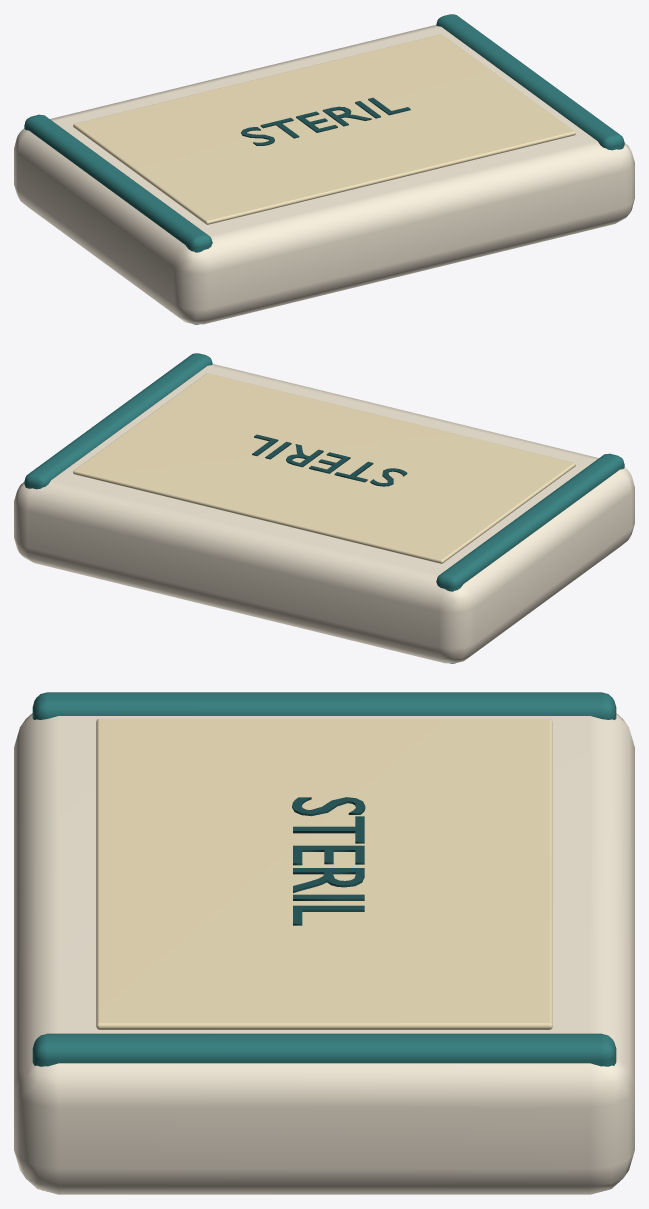
File: Bandage.fbx
3 views of the same model, one above another, from view 1: azimuth 30°, elevation 25°; view 2: azimuth 150°, elevation 25°; view 3: azimuth 270°, elevation 25° (orthographic). The views are drawn at different scales.
Parts seen in each view (by area): view 1: Surface_KKTC_WarmWhite, Surface_KKTC_Paper, Surface_KKTC_CanvasTeal, Surface_KKTC_CanvasDeep; view 2: Surface_KKTC_WarmWhite, Surface_KKTC_Paper, Surface_KKTC_CanvasTeal, Surface_KKTC_CanvasDeep; view 3: Surface_KKTC_Paper, Surface_KKTC_WarmWhite, Surface_KKTC_CanvasTeal, Surface_KKTC_CanvasDeep.
Part boxes in pixels (<box>): Surface_KKTC_WarmWhite: <box>14,25,634,324</box>; Surface_KKTC_Paper: <box>73,34,575,224</box>; Surface_KKTC_CanvasTeal: <box>24,14,624,324</box>; Surface_KKTC_CanvasDeep: <box>241,97,410,145</box>; Surface_KKTC_WarmWhite: <box>14,364,634,663</box>; Surface_KKTC_Paper: <box>73,373,575,563</box>; Surface_KKTC_CanvasTeal: <box>24,353,624,663</box>; Surface_KKTC_CanvasDeep: <box>252,434,407,486</box>; Surface_KKTC_Paper: <box>96,718,552,1029</box>; Surface_KKTC_WarmWhite: <box>14,713,634,1194</box>; Surface_KKTC_CanvasTeal: <box>32,692,616,1066</box>; Surface_KKTC_CanvasDeep: <box>292,797,365,925</box>.
Bounding box in the file's own units: 12 × 2.36 × 8.3.
